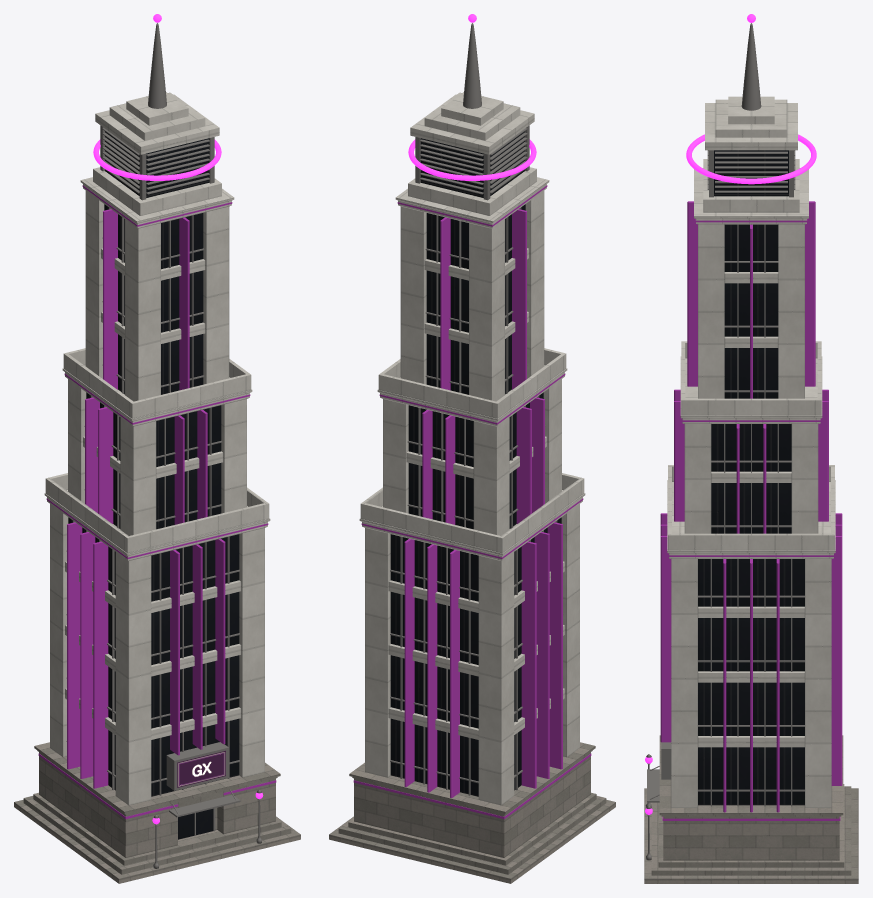
The model's file is s13-gonstead-x.glb.
3 renders of one model, left to right at view 1: azimuth 30°, elevation 25°; view 2: azimuth 150°, elevation 25°; view 3: azimuth 270°, elevation 25°, orthographic.
Parts seen in each view (by area): view 1: Landmark · Gonstead.X (Series 13); view 2: Landmark · Gonstead.X (Series 13); view 3: Landmark · Gonstead.X (Series 13).
Part boxes in pixels (x1=…): Landmark · Gonstead.X (Series 13): x1=14, y1=14, x2=300, y2=883; Landmark · Gonstead.X (Series 13): x1=329, y1=14, x2=615, y2=883; Landmark · Gonstead.X (Series 13): x1=644, y1=14, x2=858, y2=883.
Size of the model in its own units: 12 by 51 by 12.
7 materials, 4 textured.
